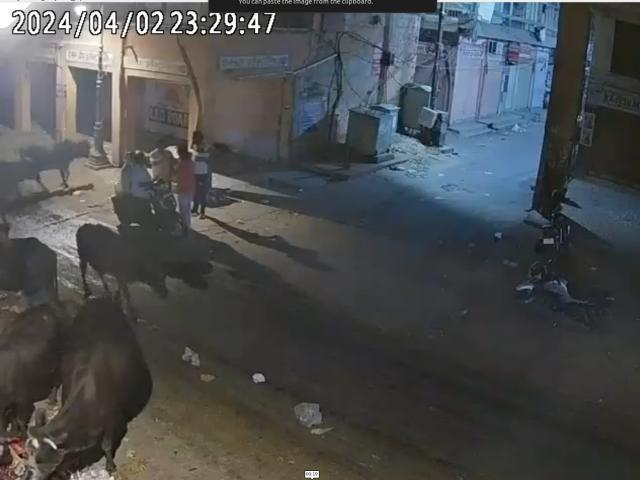cattle: (28, 295, 154, 480), (76, 219, 167, 315), (23, 136, 93, 194)
motorbike: (521, 260, 616, 342), (531, 194, 574, 261)
scooty-rider: (117, 152, 184, 241)
